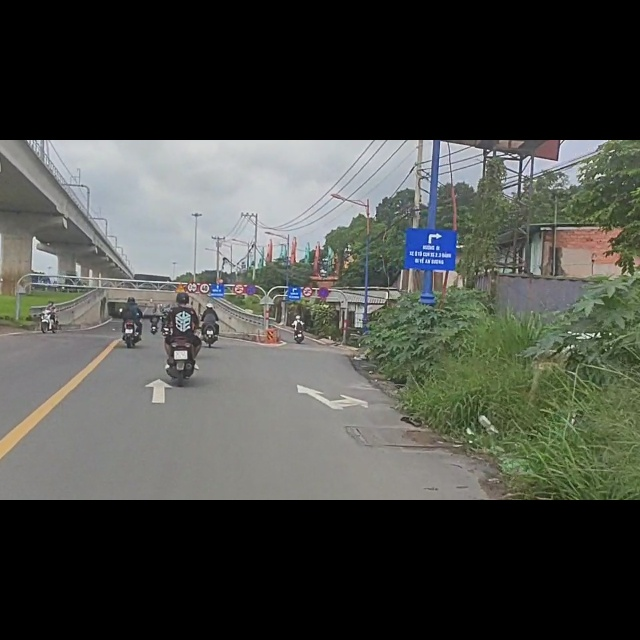bien_chi_dan: (317, 262, 330, 281), (233, 255, 245, 275), (199, 254, 211, 273), (187, 252, 198, 271), (302, 260, 313, 279), (247, 256, 257, 275)
